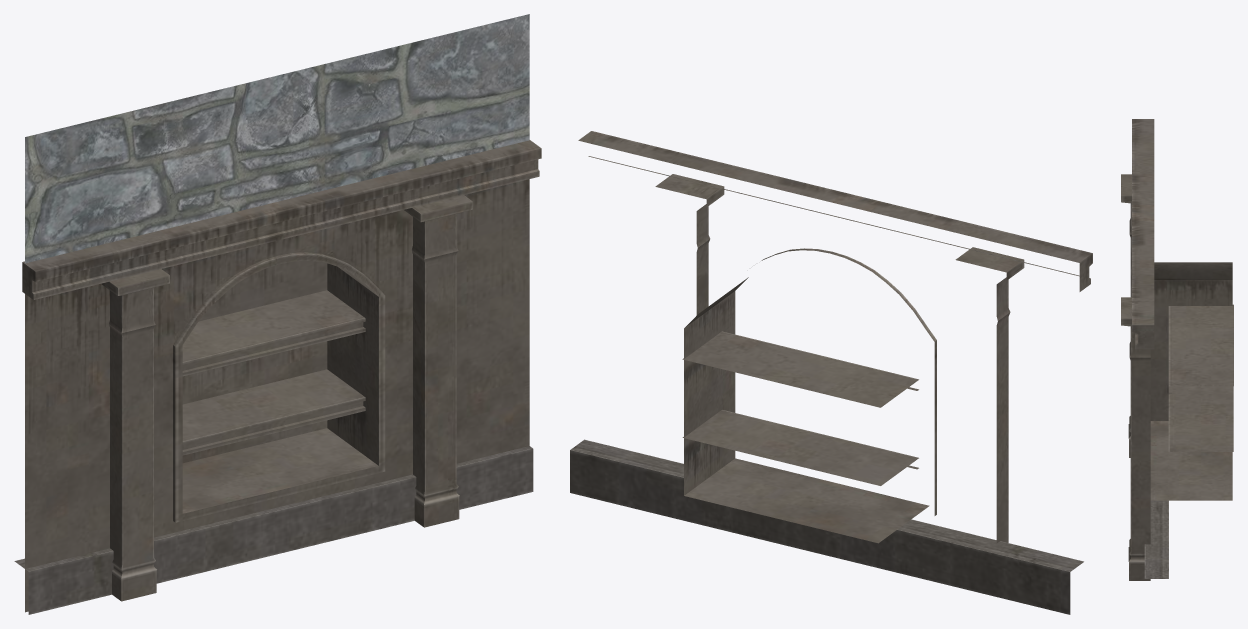
File: SM_Crypt_Wall_Decorative_A.glb
The picture shows the model from 3 angles, left to right: view 1: azimuth 30°, elevation 25°; view 2: azimuth 150°, elevation 25°; view 3: azimuth 270°, elevation 25°; orthographic projection. The views are drawn at different scales.
Parts seen in each view (by area): view 1: SM_Crypt_Wall_Decorative_A; view 2: SM_Crypt_Wall_Decorative_A; view 3: SM_Crypt_Wall_Decorative_A.
Boxes of the visible parts, x1,y1,x2,y2 form: SM_Crypt_Wall_Decorative_A: (14, 14, 541, 614); SM_Crypt_Wall_Decorative_A: (570, 131, 1092, 614); SM_Crypt_Wall_Decorative_A: (1121, 119, 1233, 580).
Size of the model in its own units: 5.01 by 4.5 by 1.16.
3 materials, 3 textured.
